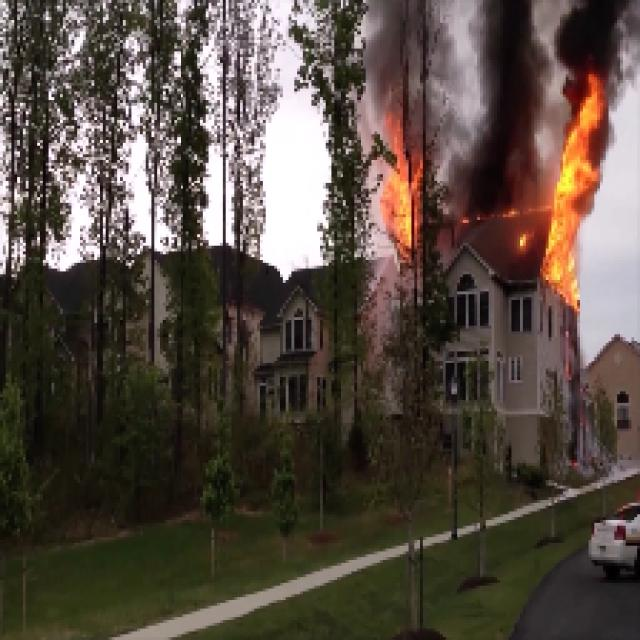fire: (556, 97, 595, 307)
smoke: (465, 4, 536, 201), (568, 1, 612, 77)
